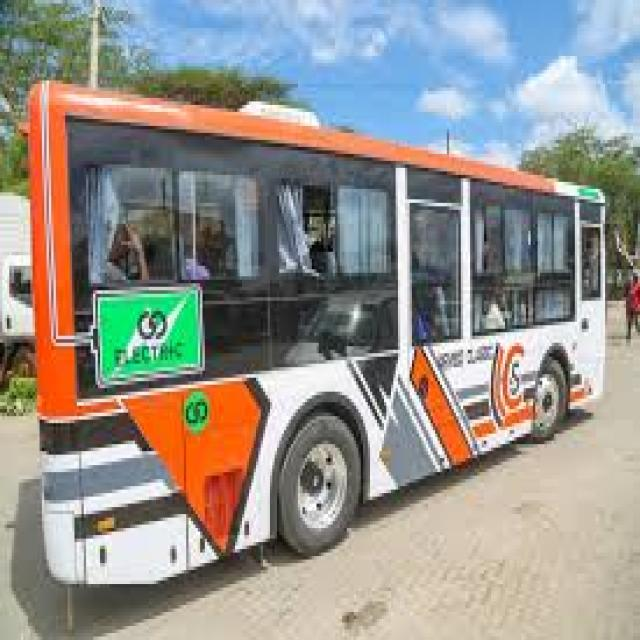bus: (18, 42, 616, 601)
